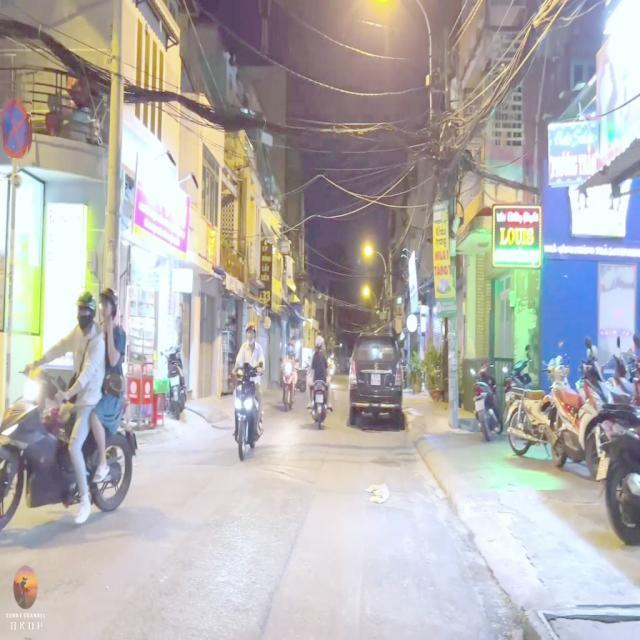130-cam-dung-va-do-xe: (1, 99, 32, 157)
